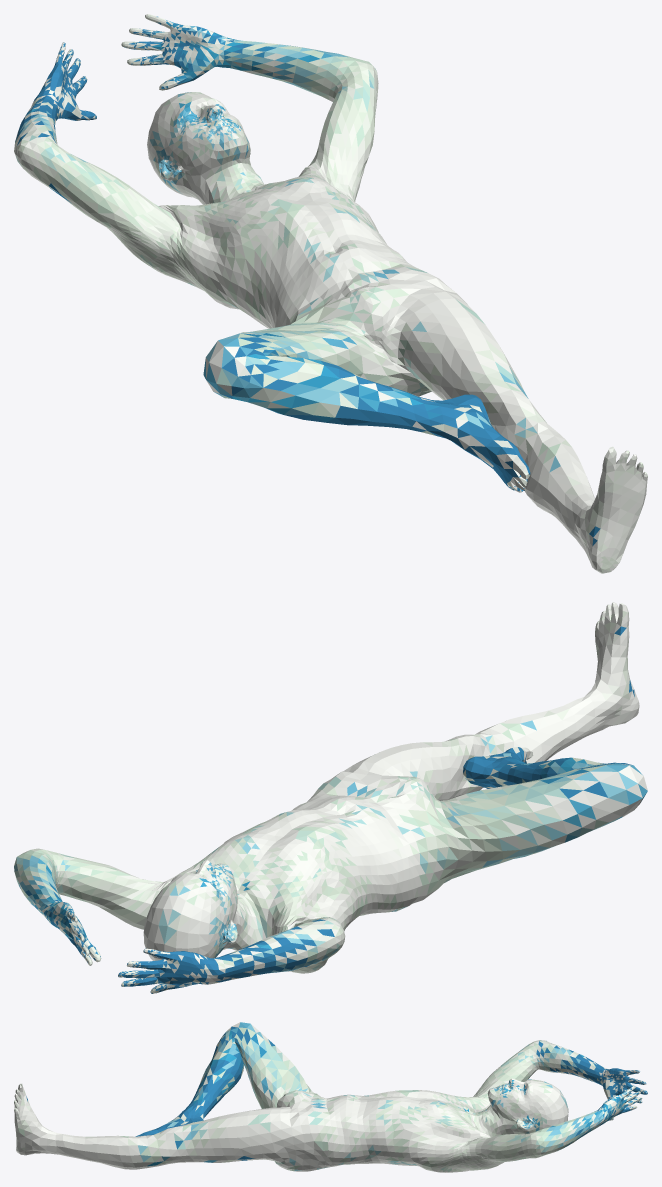
File: spiralconv_ch16_7.glb
3 renders of one model, top to bottom at view 1: azimuth 30°, elevation 25°; view 2: azimuth 150°, elevation 25°; view 3: azimuth 270°, elevation 25°, orthographic. The views are drawn at different scales.
Visible parts, largest first — view 1: imagetostl_mesh0; view 2: imagetostl_mesh0; view 3: imagetostl_mesh0.
Part boxes in pixels (<box>): imagetostl_mesh0: <box>14,14,647,573</box>; imagetostl_mesh0: <box>14,602,647,993</box>; imagetostl_mesh0: <box>14,1022,647,1172</box>.
Size of the model in its own units: 0.9158 by 0.3349 by 2.04.
